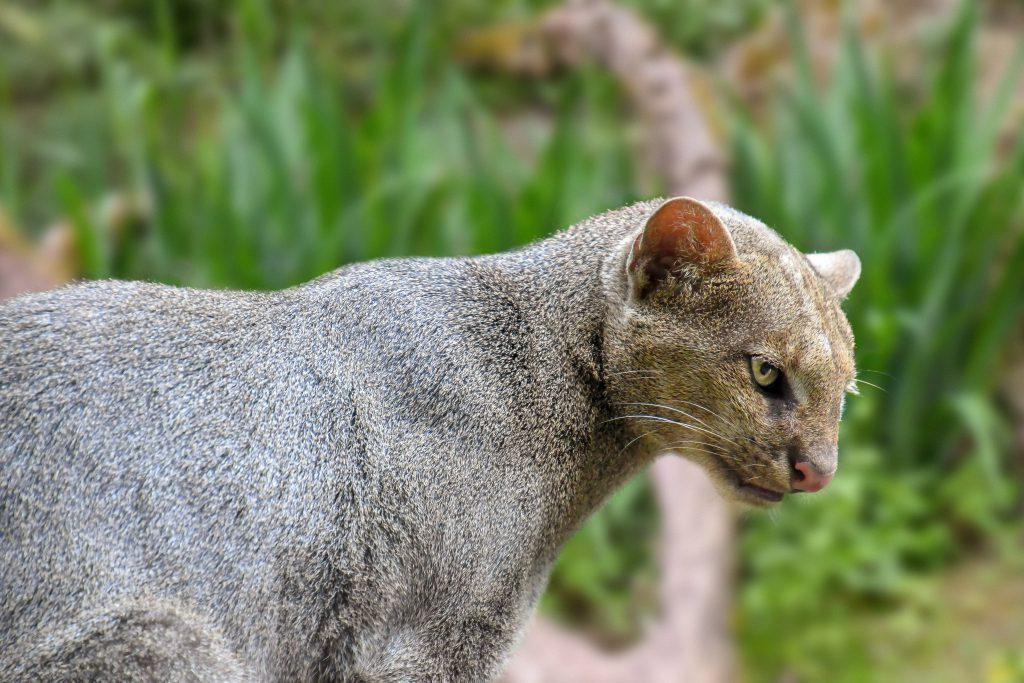Jaguarundi: (12, 185, 879, 646)
